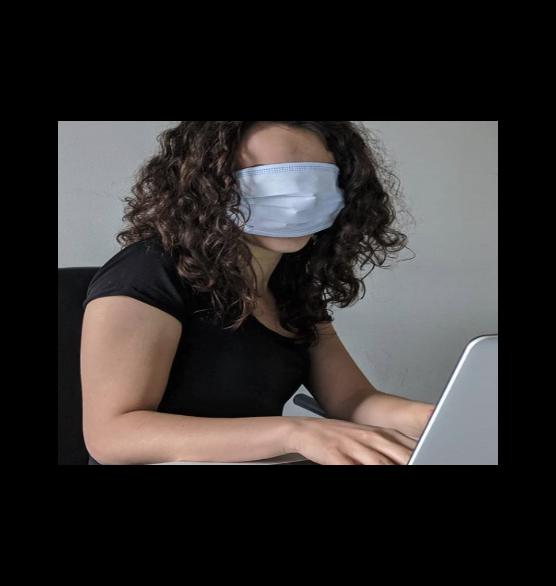mask_weared_incorrect: (237, 150, 353, 255)
